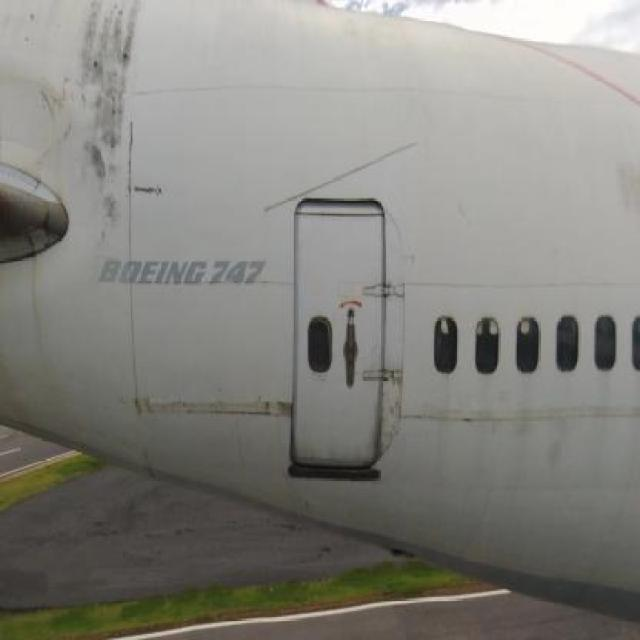Rust: (81, 1, 136, 247), (130, 388, 267, 422), (28, 251, 58, 387), (44, 58, 74, 176)
Scartch: (505, 394, 583, 486), (373, 382, 407, 468), (452, 175, 482, 227), (274, 381, 300, 428), (137, 179, 168, 206)
